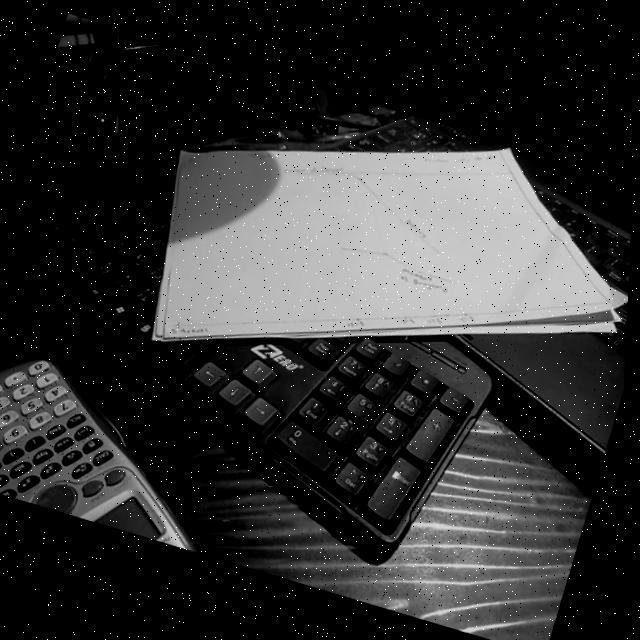document: (153, 149, 628, 338)
